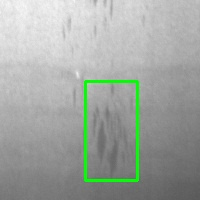inclusion: (85, 81, 137, 180)
